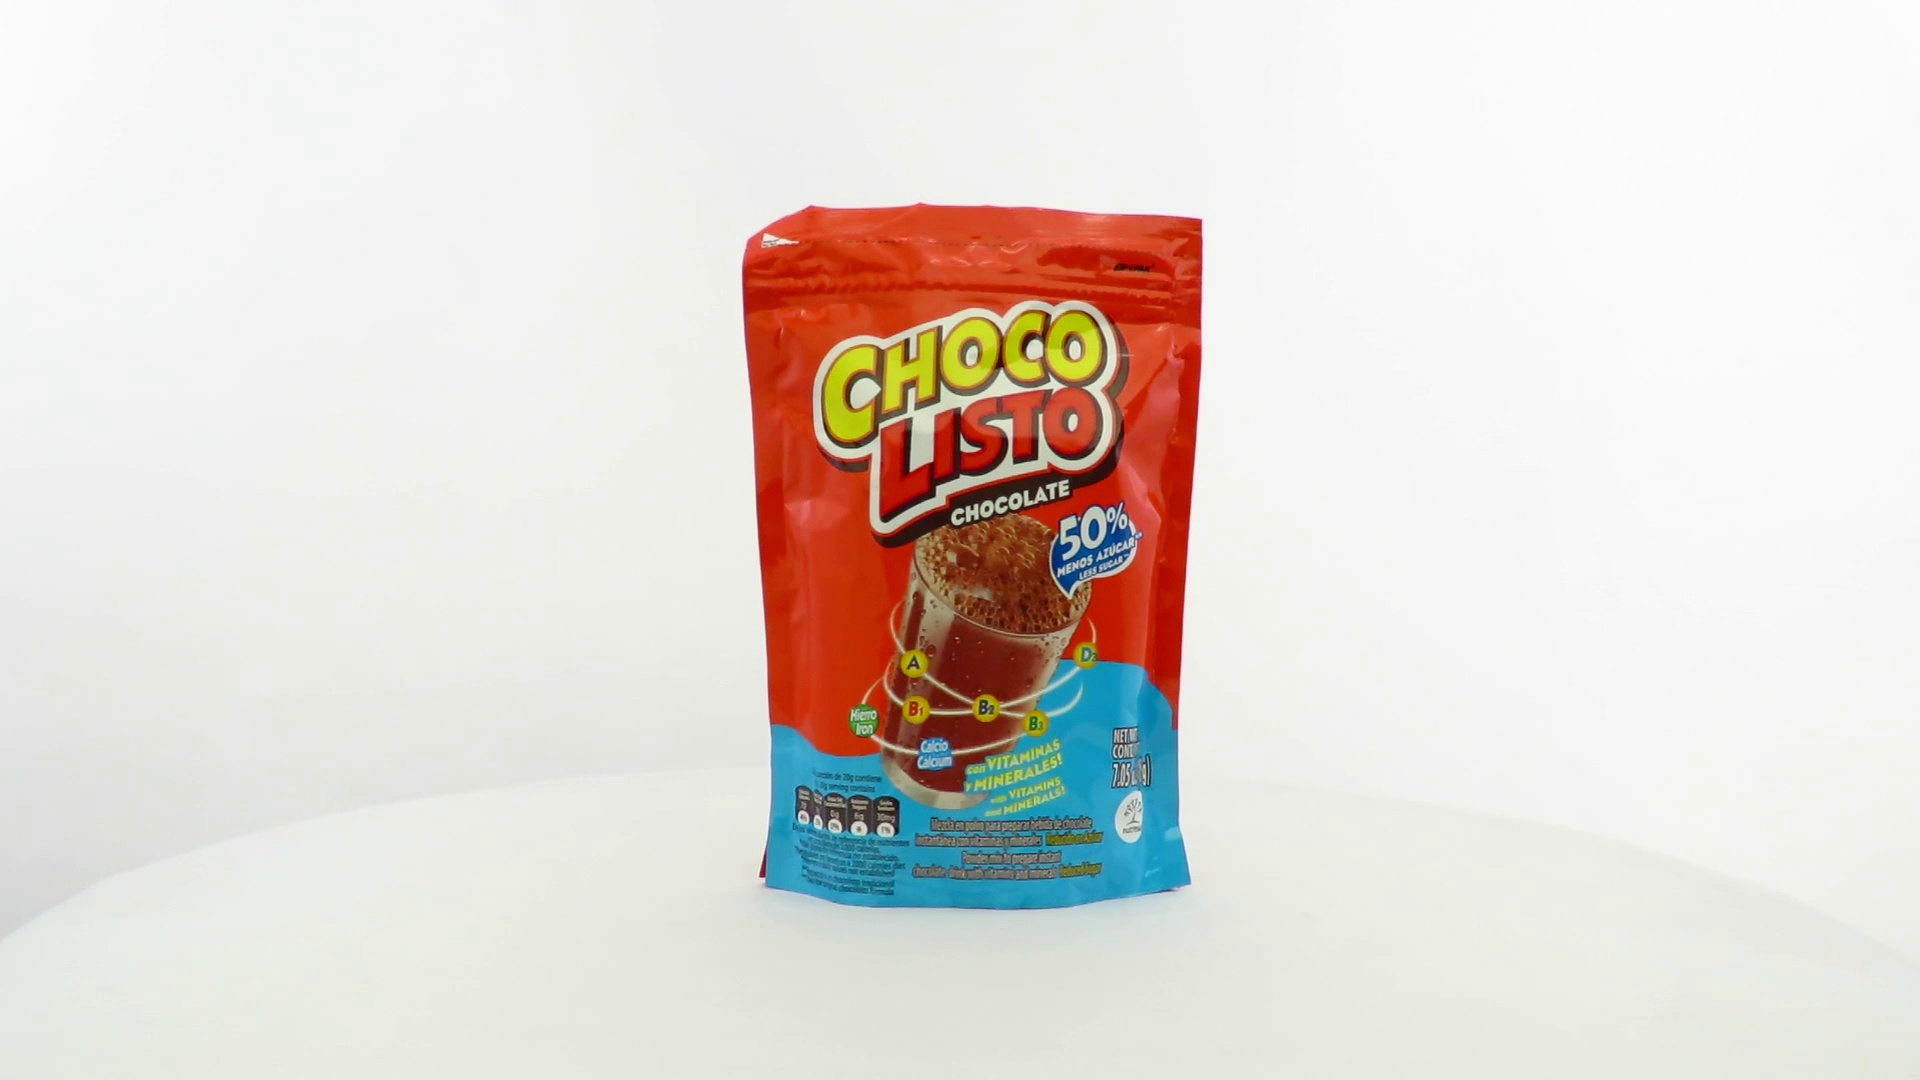COL0170104DYP20000: (737, 196, 1209, 916)
